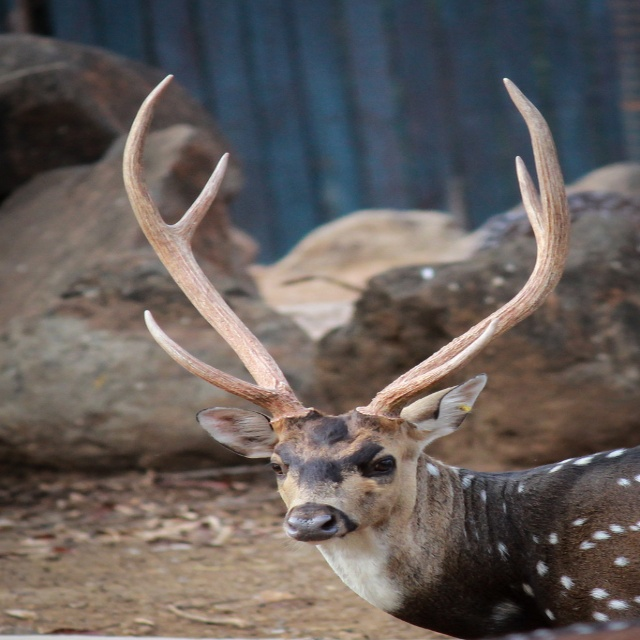Deer: (122, 74, 640, 639)
